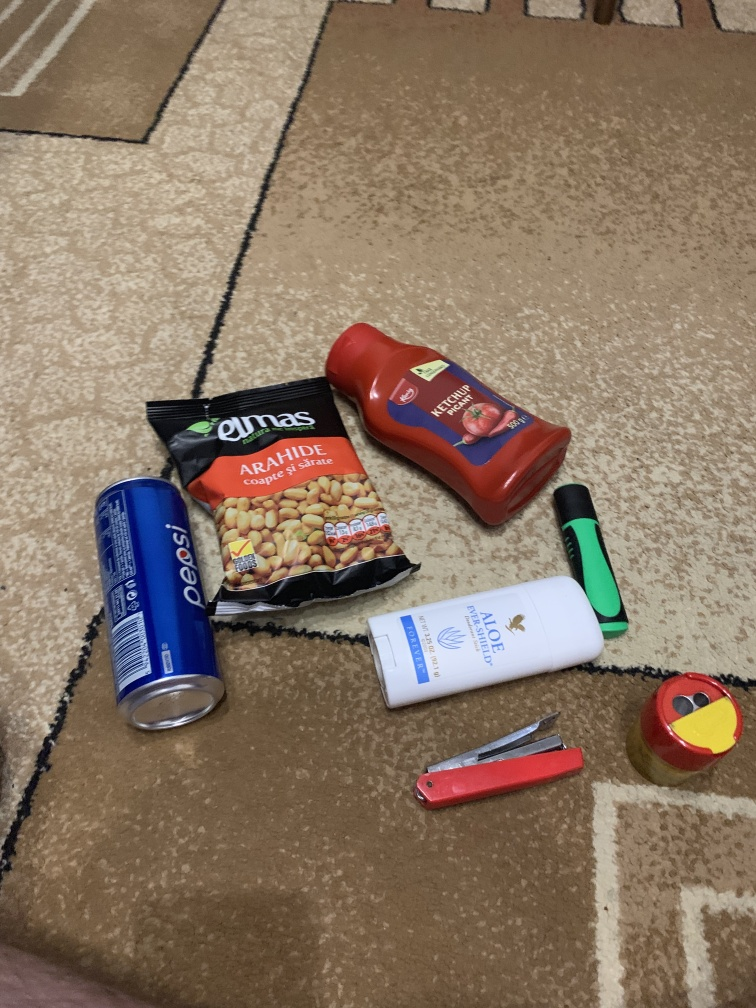ketchup: (320, 311, 584, 539)
peanuts: (200, 387, 421, 617)
pepsi: (91, 474, 225, 736)
